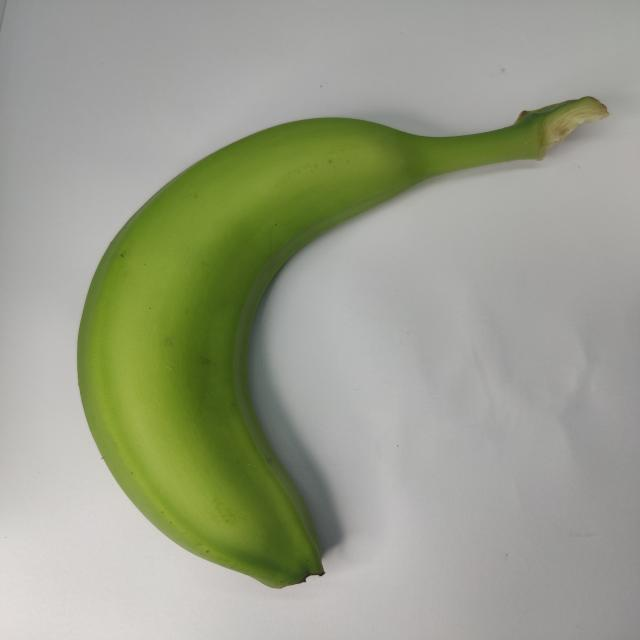raw: (30, 80, 640, 590)
